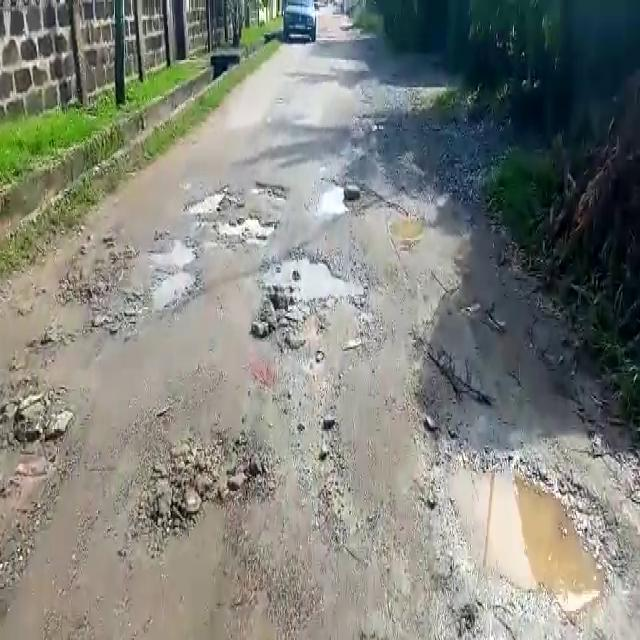Pothole: (424, 451, 622, 616), (262, 255, 369, 302), (210, 213, 276, 243), (145, 235, 195, 266), (313, 182, 353, 217), (188, 187, 230, 216), (386, 213, 426, 241), (250, 178, 292, 198)
